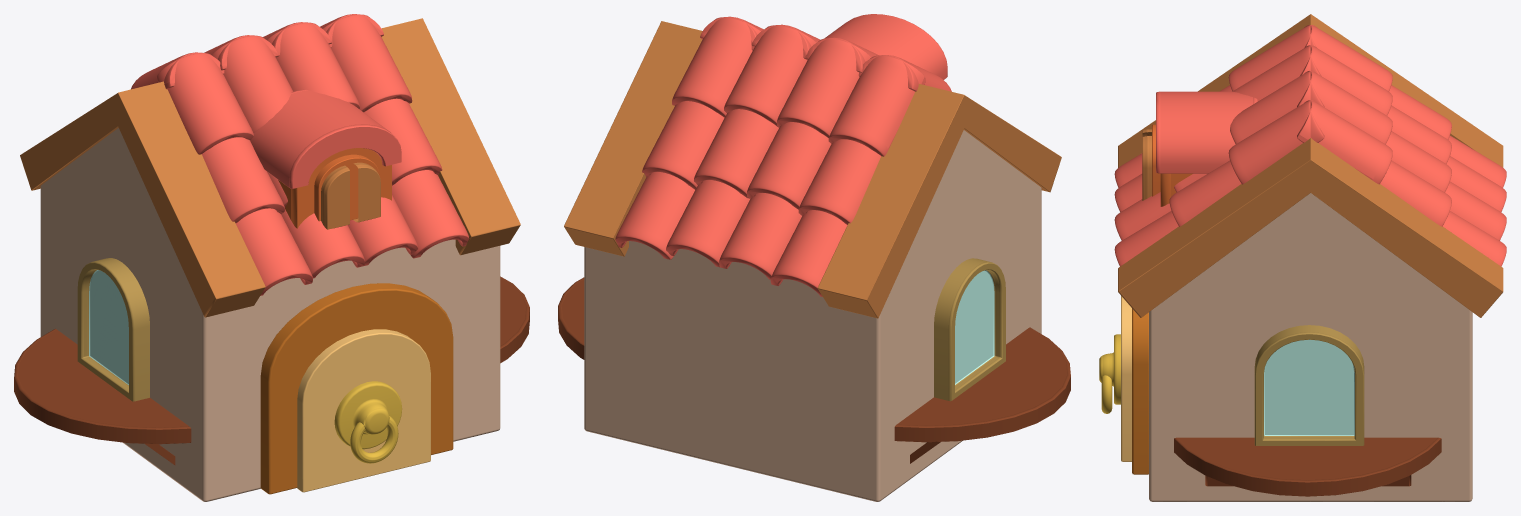
The model's file is house.fbx.
3 views of the same model, side by side, from view 1: azimuth 30°, elevation 25°; view 2: azimuth 150°, elevation 25°; view 3: azimuth 270°, elevation 25° (orthographic).
Visible parts, largest first — view 1: Cube.005; view 2: Cube.005; view 3: Cube.005.
Boxes of the visible parts, x1,y1,x2,y2 form: Cube.005: (14, 14, 529, 501); Cube.005: (558, 14, 1070, 501); Cube.005: (1099, 14, 1506, 501).
Bounding box in the file's own units: 3634 × 2717 × 2712.
